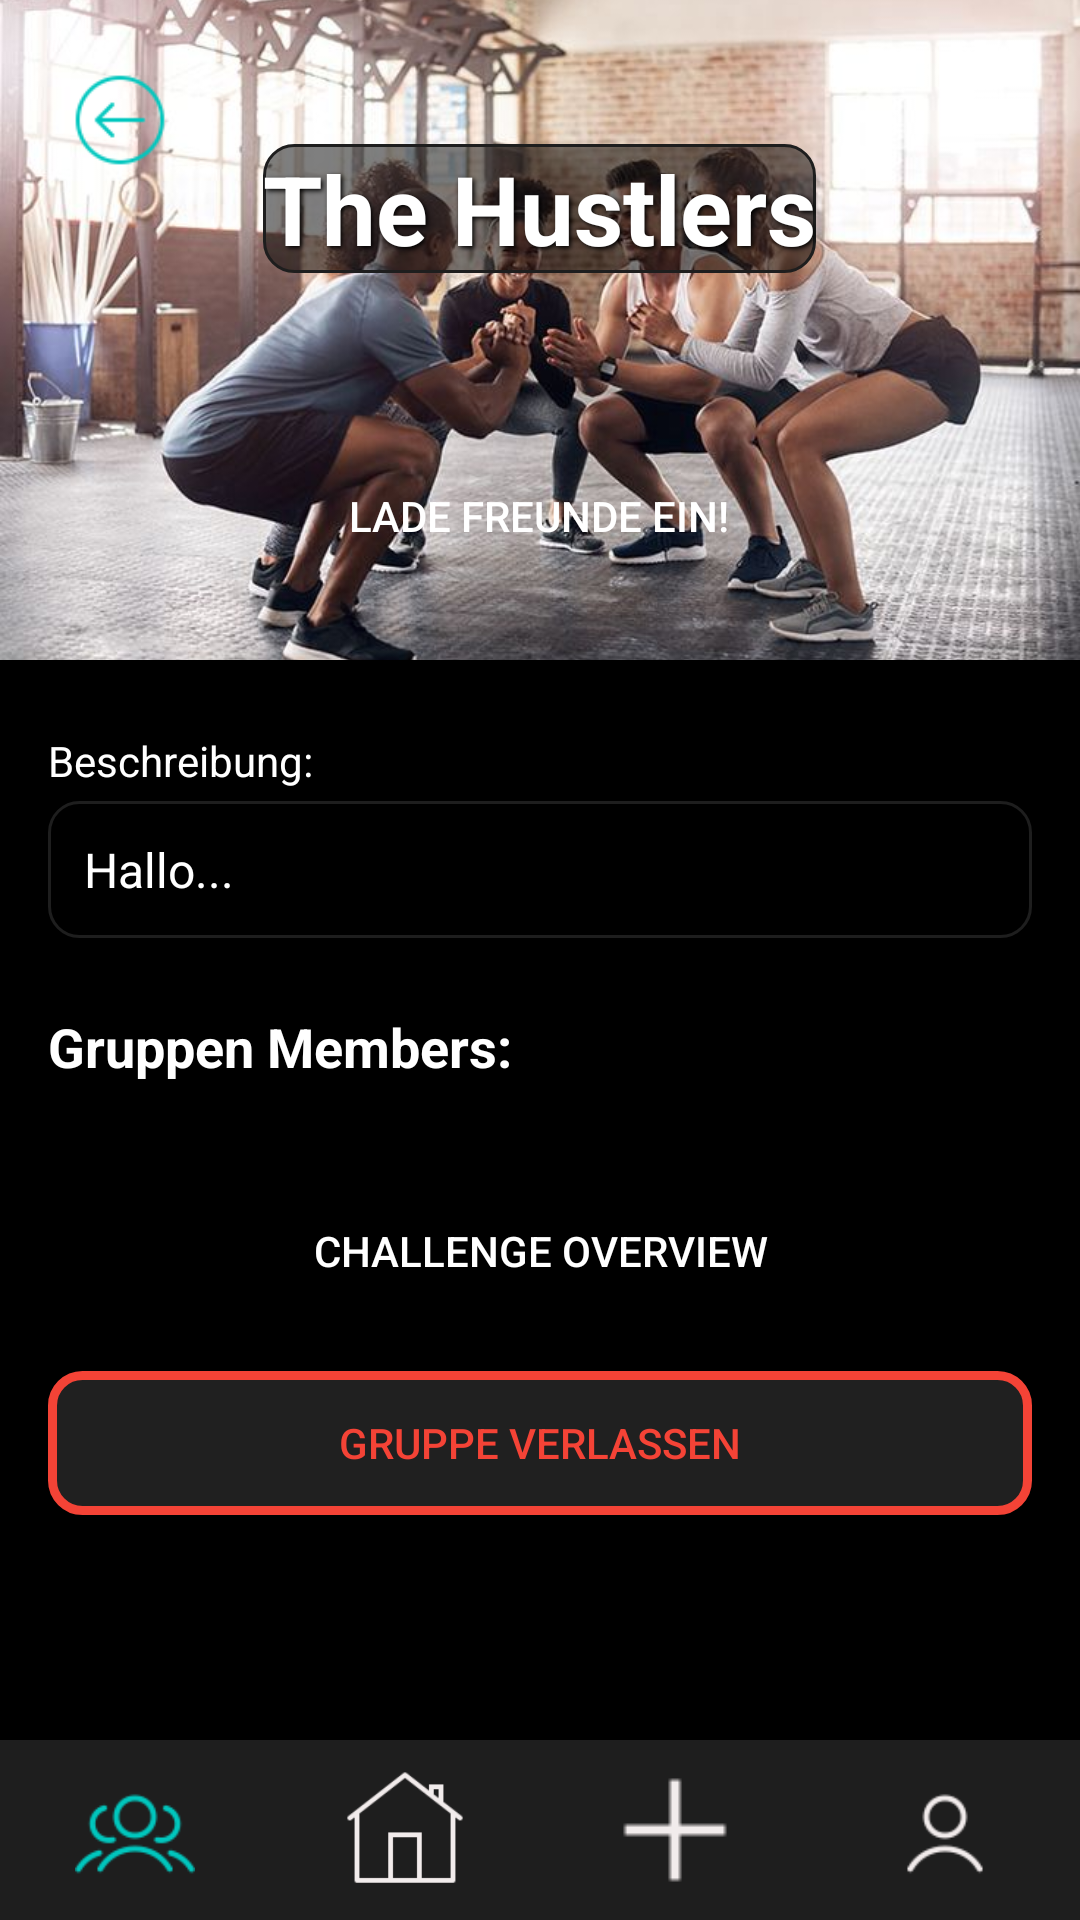

Point at icon controls on the screen. Image size 1080×1920, points as (x,y).
add: (675,1830)
back: (120,120)
home: (405,1827)
profile: (945,1833)
